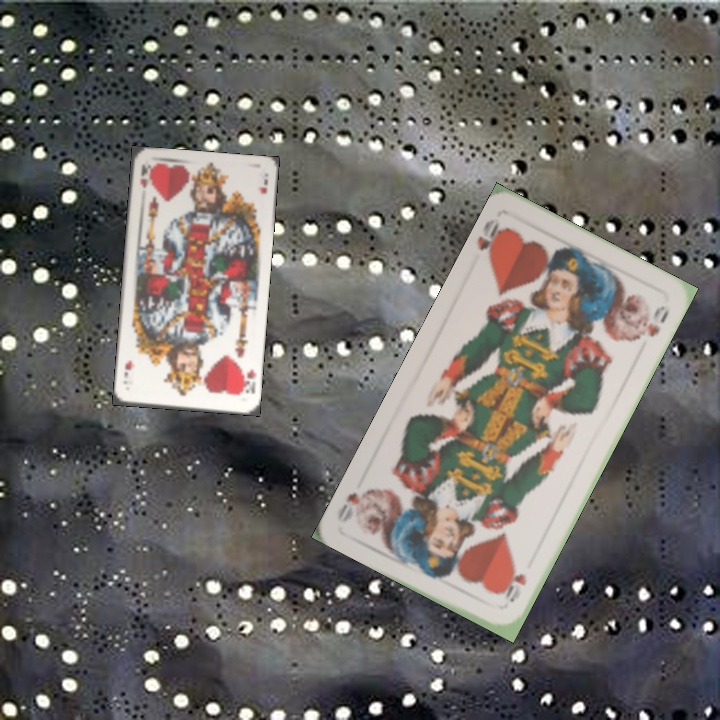HK: (237, 364, 258, 398), (137, 161, 153, 190)
HO: (472, 214, 511, 266), (499, 569, 529, 606)
